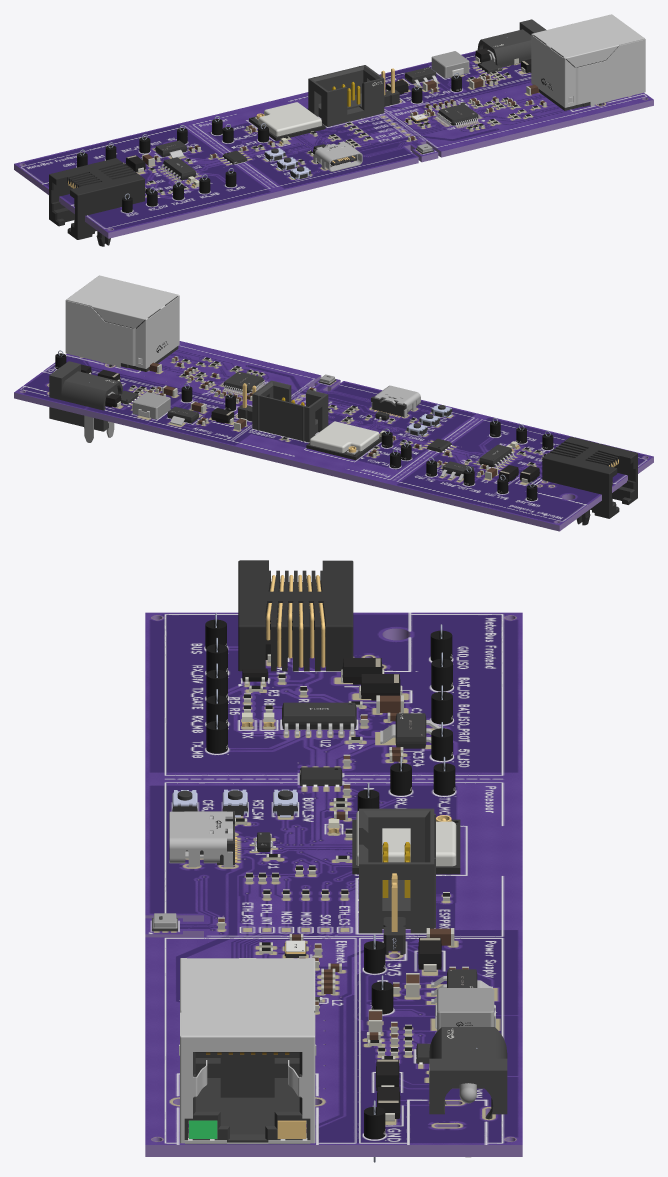
File: eveningstar-purple.glb
3 views of the same model, one above another, from view 1: azimuth 30°, elevation 25°; view 2: azimuth 150°, elevation 25°; view 3: azimuth 270°, elevation 25° (orthographic). The views are drawn at different scales.
Visible parts, largest first — view 1: =>[0:1:1:54], =>[0:1:1:27], =>[0:1:1:11], =>[0:1:1:25], =>[0:1:1:3], =>[0:1:1:5], =>[0:1:1:7], =>[0:1:1:23], =>[0:1:1:31], =>[0:1:1:9]; view 2: =>[0:1:1:54], =>[0:1:1:27], =>[0:1:1:11], =>[0:1:1:25], =>[0:1:1:3], =>[0:1:1:5], =>[0:1:1:31], =>[0:1:1:7], =>[0:1:1:23], =>[0:1:1:9]; view 3: =>[0:1:1:54], =>[0:1:1:27], =>[0:1:1:11], =>[0:1:1:3], =>[0:1:1:25], =>[0:1:1:5], =>[0:1:1:31], =>[0:1:1:23], =>[0:1:1:7], =>[0:1:1:9].
Part boxes in pixels (<box>): =>[0:1:1:54]: <box>14,51,653,238</box>; =>[0:1:1:27]: <box>531,14,645,110</box>; =>[0:1:1:11]: <box>49,58,469,246</box>; =>[0:1:1:25]: <box>308,19,546,154</box>; =>[0:1:1:3]: <box>77,56,552,212</box>; =>[0:1:1:5]: <box>153,44,503,181</box>; =>[0:1:1:7]: <box>143,75,544,164</box>; =>[0:1:1:23]: <box>431,51,469,78</box>; =>[0:1:1:31]: <box>123,48,531,171</box>; =>[0:1:1:9]: <box>264,148,310,178</box>; =>[0:1:1:54]: <box>14,341,653,531</box>; =>[0:1:1:27]: <box>65,275,179,371</box>; =>[0:1:1:11]: <box>132,383,637,525</box>; =>[0:1:1:25]: <box>49,361,336,442</box>; =>[0:1:1:3]: <box>55,341,553,500</box>; =>[0:1:1:5]: <box>56,367,547,499</box>; =>[0:1:1:31]: <box>81,364,539,482</box>; =>[0:1:1:7]: <box>148,357,496,478</box>; =>[0:1:1:23]: <box>133,392,389,420</box>; =>[0:1:1:9]: <box>406,404,451,435</box>; =>[0:1:1:54]: <box>145,612,522,1156</box>; =>[0:1:1:27]: <box>179,958,316,1144</box>; =>[0:1:1:11]: <box>169,560,494,1138</box>; =>[0:1:1:3]: <box>205,619,472,1139</box>; =>[0:1:1:25]: <box>152,808,507,1157</box>; =>[0:1:1:5]: <box>172,643,492,1134</box>; =>[0:1:1:31]: <box>265,639,441,1118</box>; =>[0:1:1:23]: <box>251,833,495,1028</box>; =>[0:1:1:7]: <box>218,695,468,1039</box>; =>[0:1:1:9]: <box>172,789,297,817</box>.
Bounding box in the file's own units: 0.1477 × 0.0232 × 0.0436.
37 materials, 2 textured.
